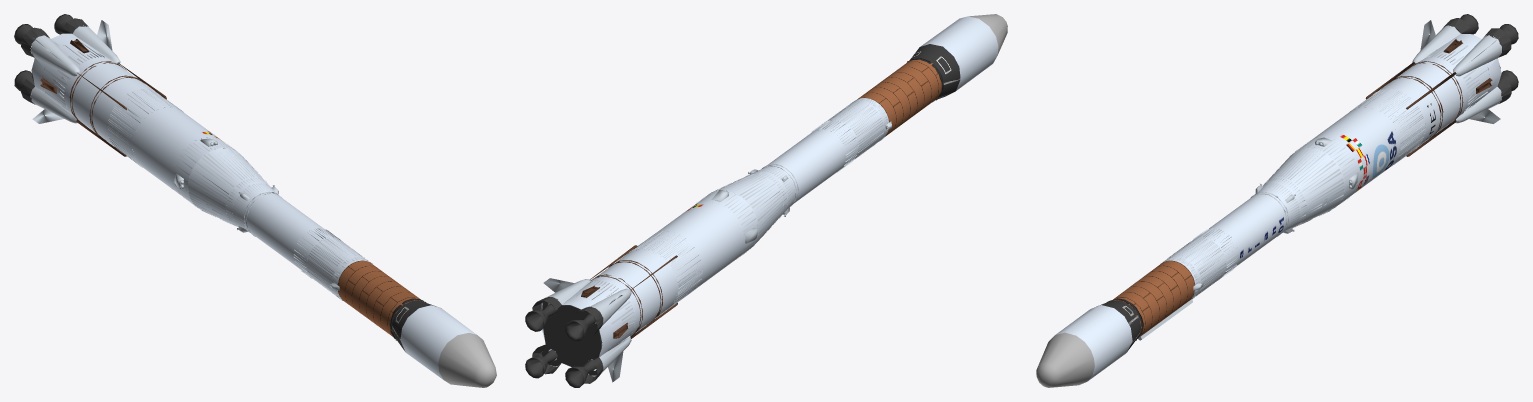
File: rocket_2.obj
3 views of the same model, side by side, from view 1: azimuth 30°, elevation 25°; view 2: azimuth 150°, elevation 25°; view 3: azimuth 330°, elevation 25° (orthographic).
Parts seen in each view (by area): view 1: 12217_rocket_v1_l1; view 2: 12217_rocket_v1_l1; view 3: 12217_rocket_v1_l1.
Part boxes in pixels (bbox=[...]): 12217_rocket_v1_l1: bbox=[14, 14, 496, 387]; 12217_rocket_v1_l1: bbox=[525, 14, 1007, 387]; 12217_rocket_v1_l1: bbox=[1036, 14, 1518, 387].
Bounding box in the file's own units: 11.81 × 13.35 × 131.
